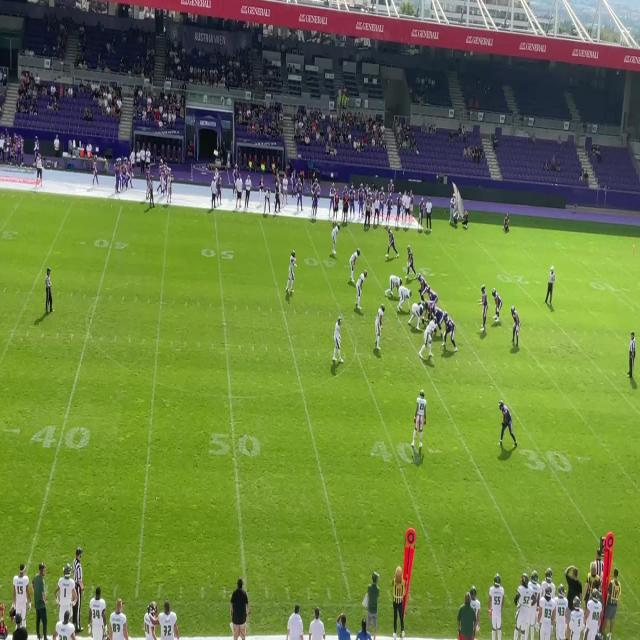3: (519, 447, 545, 474)
4: (30, 420, 59, 456), (368, 437, 395, 470)
5: (208, 427, 234, 463)
american-football-players: (497, 400, 516, 456), (418, 318, 439, 363), (330, 316, 344, 374), (413, 391, 428, 443), (442, 313, 459, 354), (373, 304, 385, 358), (544, 265, 558, 311), (509, 305, 522, 351), (286, 252, 298, 299), (356, 268, 368, 312), (405, 243, 418, 283), (479, 284, 489, 334), (330, 220, 342, 259), (410, 300, 424, 333), (386, 225, 398, 262), (397, 286, 412, 314), (432, 306, 446, 336), (493, 289, 505, 323), (386, 276, 402, 300), (350, 247, 360, 283), (426, 287, 440, 310), (424, 299, 437, 322), (418, 274, 429, 298)
